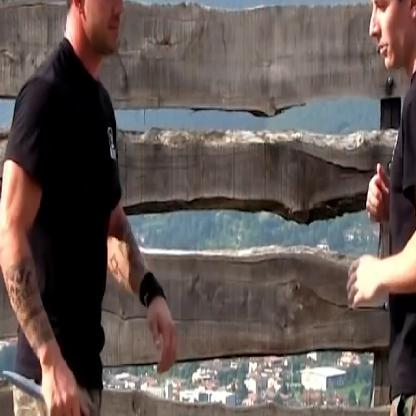knife: (0, 362, 90, 415)
